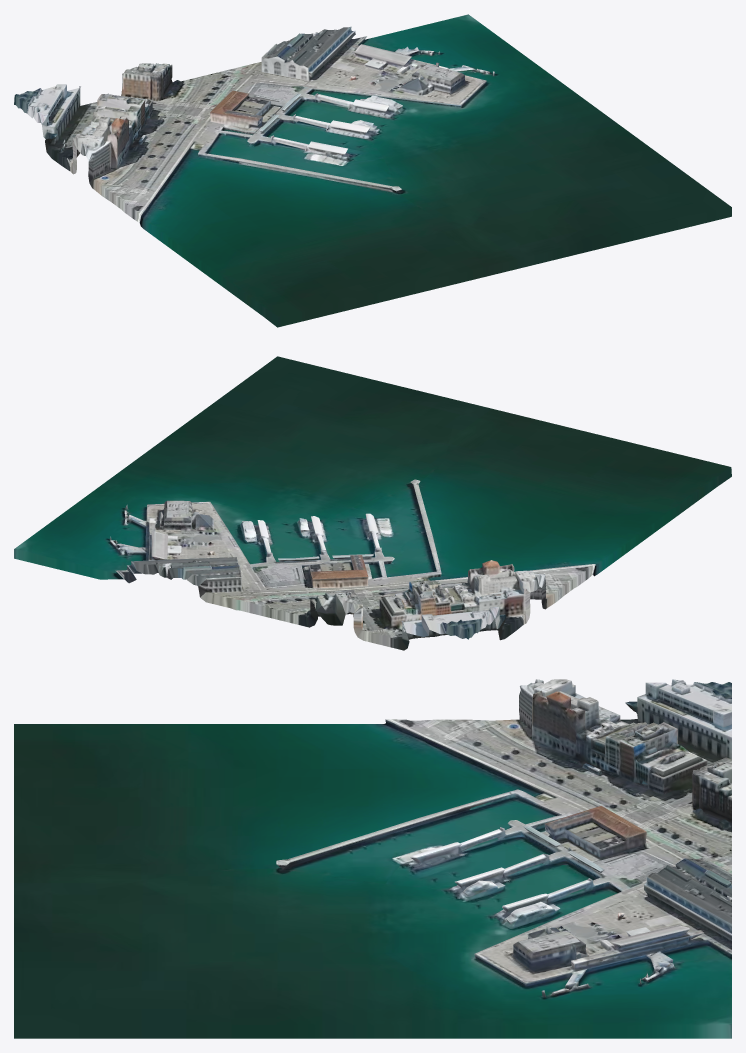
The model's file is z16-10487-25326-h0-yup-uvflip-v3-world.glb.
3 views of the same model, one above another, from view 1: azimuth 30°, elevation 25°; view 2: azimuth 150°, elevation 25°; view 3: azimuth 270°, elevation 25° (orthographic). The views are drawn at different scales.
Size of the model in its own units: 483 by 53.76 by 485.
Materials: 1 (1 with a texture image).
